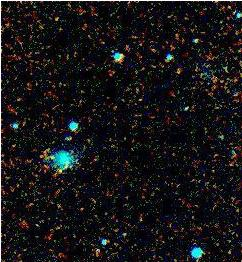star: (47, 158, 77, 188)
